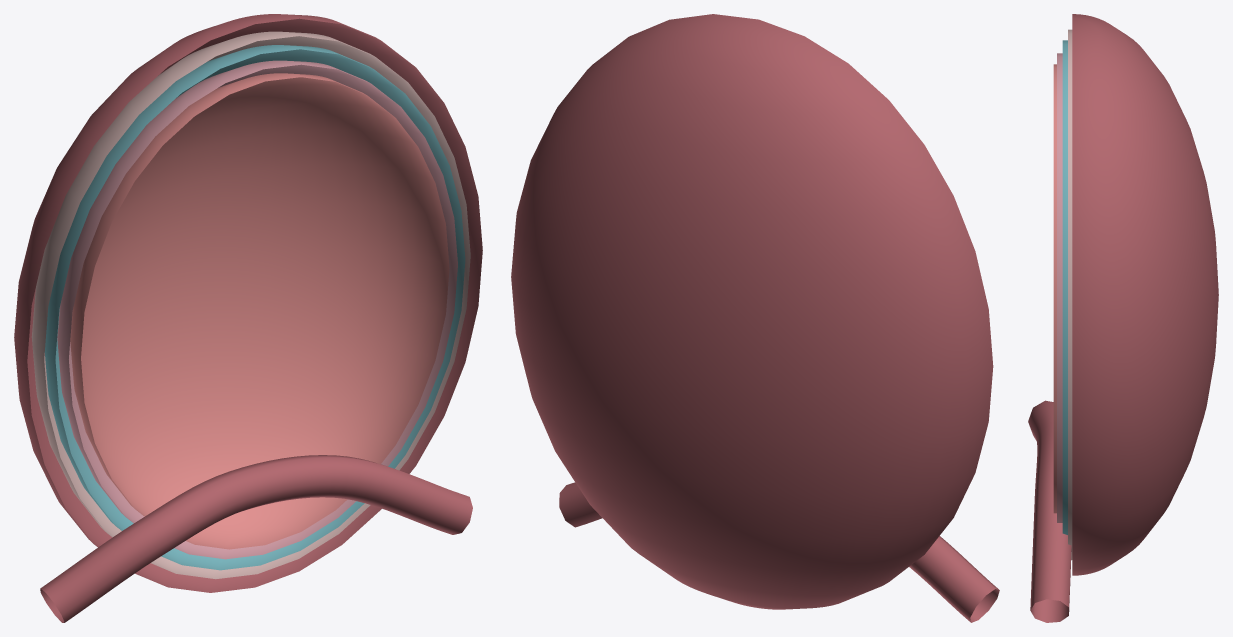
File: pleura.glb
3 renders of one model, left to right at view 1: azimuth 30°, elevation 25°; view 2: azimuth 150°, elevation 25°; view 3: azimuth 270°, elevation 25°, orthographic. The views are drawn at different scales.
Parts seen in each view (by area): view 1: lung_tissue, chest_wall, diaphragm, pleural_fluid, parietal_pleura, visceral_pleura; view 2: chest_wall, diaphragm; view 3: chest_wall, diaphragm, pleural_fluid, visceral_pleura, parietal_pleura, lung_tissue.
Part boxes in pixels (x1,y1,x2,y2): lung_tissue: (70,73,449,549); chest_wall: (14,14,482,592); diaphragm: (40,455,472,622); pleural_fluid: (44,45,465,570); parietal_pleura: (31,31,470,579); visceral_pleura: (57,60,457,559); chest_wall: (511,14,993,609); diaphragm: (559,482,999,622); chest_wall: (1072,14,1218,575); diaphragm: (1028,400,1071,622); pleural_fluid: (1062,40,1067,534); visceral_pleura: (1057,53,1062,522); parietal_pleura: (1068,29,1072,559); lung_tissue: (1053,64,1056,513).
Bounding box in the file's own units: 2.2 × 2.6 × 0.86.
